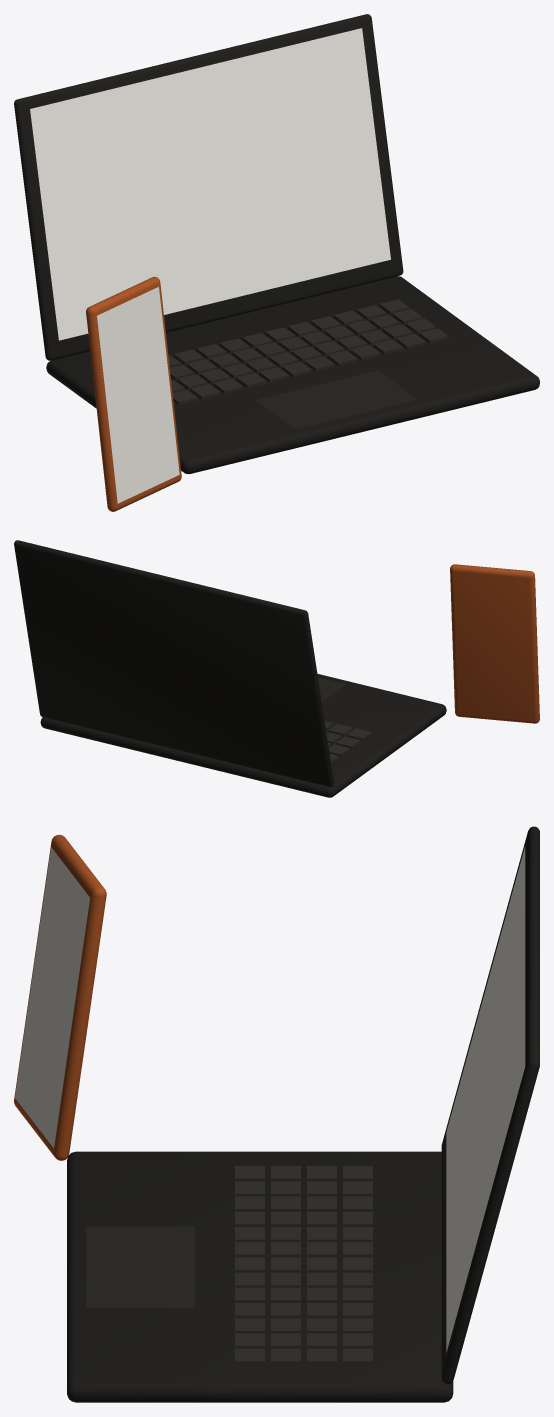
File: hero.glb
3 views of the same model, one above another, from view 1: azimuth 30°, elevation 25°; view 2: azimuth 150°, elevation 25°; view 3: azimuth 270°, elevation 25° (orthographic). The views are drawn at different scales.
Parts seen in each view (by area): view 1: LaptopScreen, LaptopBase, Lid, Keyboard, PhoneScreen, Trackpad, Phone; view 2: Lid, Phone, LaptopBase, Keyboard, Trackpad; view 3: LaptopBase, Keyboard, LaptopScreen, PhoneScreen, Lid, Trackpad, Phone.
Boxes of the visible parts, x1,y1,x2,y2 form: LaptopScreen: (30,28,390,340); LaptopBase: (46,276,539,474); Lid: (14,14,403,360); Keyboard: (168,299,448,405); PhoneScreen: (97,287,179,503); Trackpad: (256,370,417,429); Phone: (86,276,181,511); Lid: (14,540,333,787); Phone: (450,564,539,723); LaptopBase: (40,674,446,797); Keyboard: (324,721,371,763); Trackpad: (318,677,345,701); LaptopBase: (67,1151,453,1402); Keyboard: (235,1166,372,1365); LaptopScreen: (446,846,525,1352); PhoneScreen: (15,847,89,1147); Lid: (441,826,539,1384); Trackpad: (86,1226,194,1307); Phone: (14,834,106,1160).
Size of the model in its own units: 4.11 by 2.16 by 2.99.
